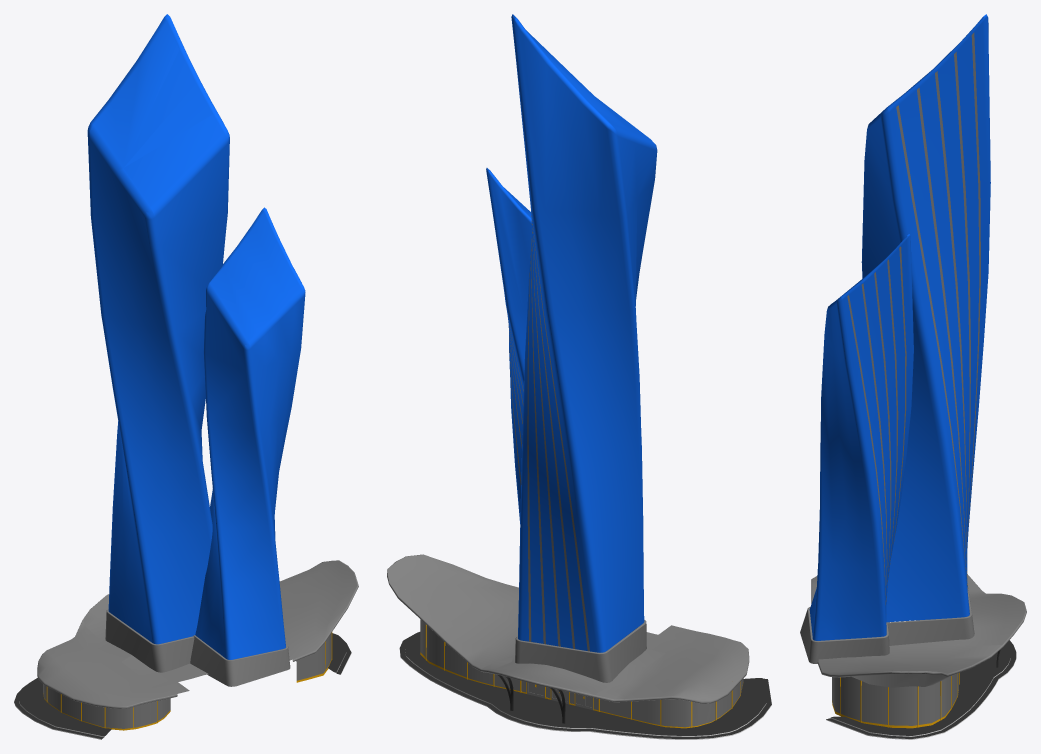
Rendered from SM_Inversion_forum.fbx.
3 views of the same model, side by side, from view 1: azimuth 30°, elevation 25°; view 2: azimuth 150°, elevation 25°; view 3: azimuth 270°, elevation 25° (orthographic). The views are drawn at different scales.
Visible parts, largest first — view 1: SM_Inversion_forum; view 2: SM_Inversion_forum; view 3: SM_Inversion_forum.
Part boxes in pixels (x1,y1,x2,y2): SM_Inversion_forum: (14, 14, 358, 739); SM_Inversion_forum: (387, 14, 771, 739); SM_Inversion_forum: (800, 14, 1026, 739).
Size of the model in its own units: 8308 by 15369 by 4809.
